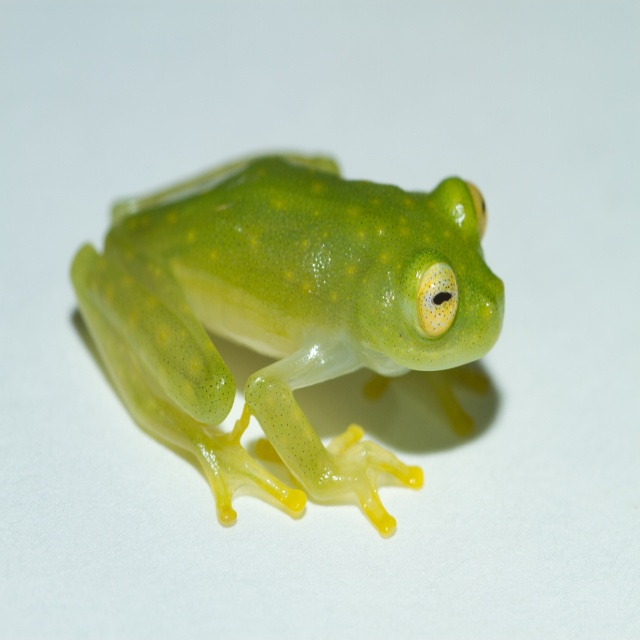Frog: (69, 148, 503, 539)
